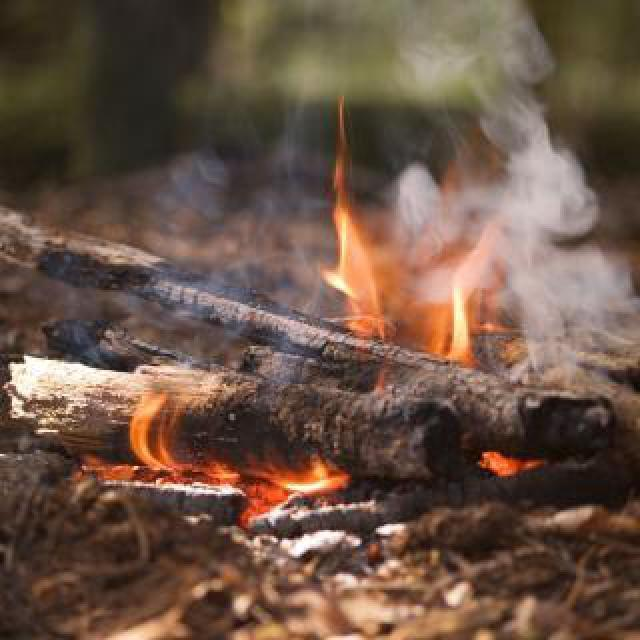Fire: (280, 110, 412, 350), (114, 386, 360, 506)
Smoke: (444, 32, 614, 404)
